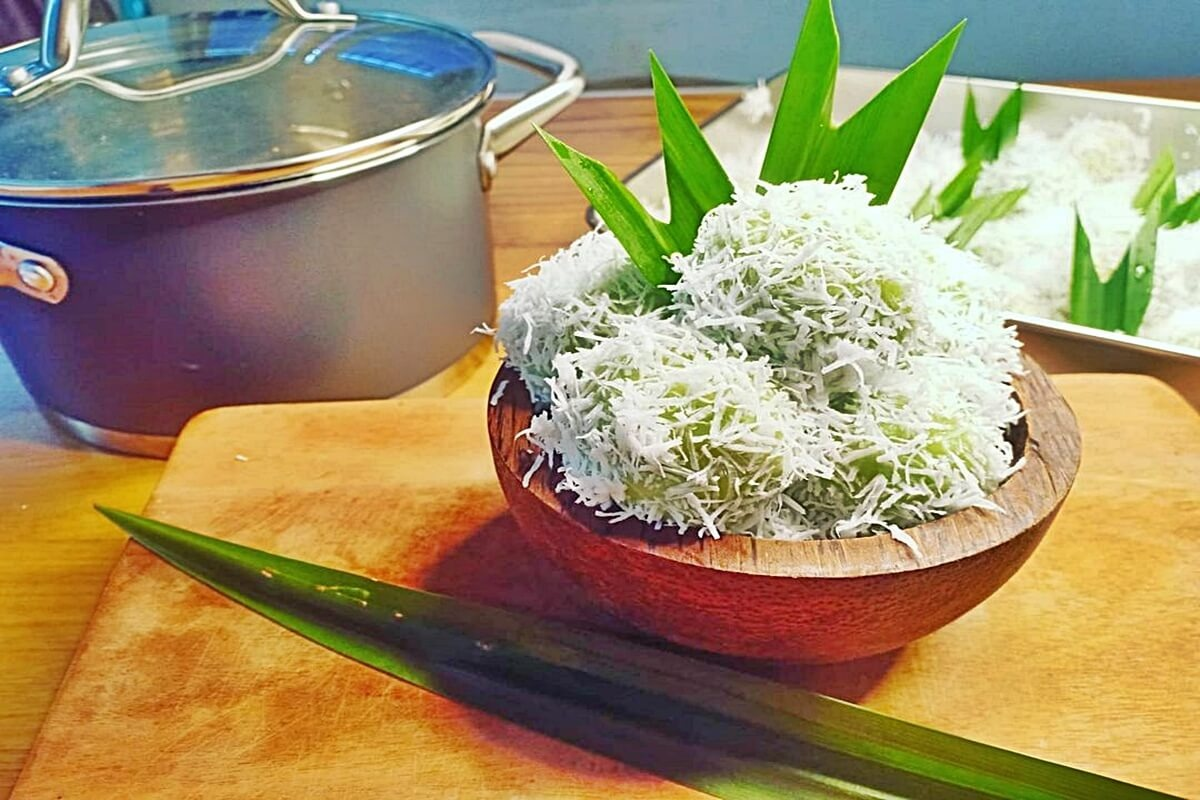klepon: (501, 284, 822, 567)
